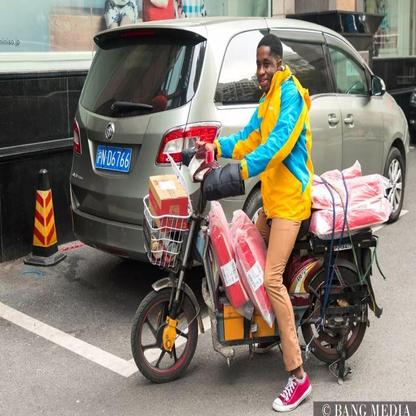target: (129, 32, 394, 386)
